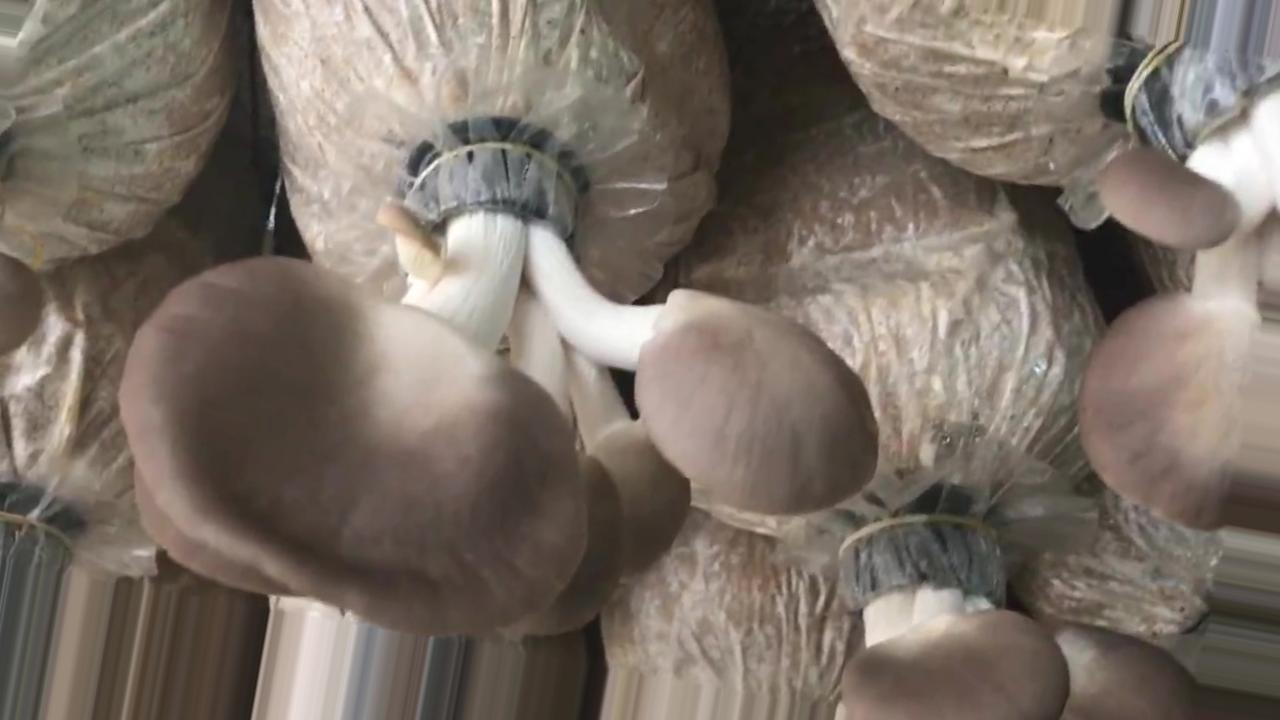nam: (114, 124, 873, 639), (1078, 42, 1280, 523), (842, 507, 1204, 720)
